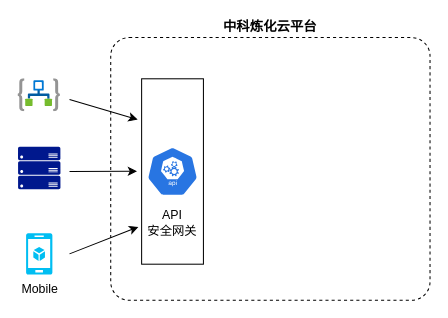
This 448x318 diagram has some shape labels left out. The centre of each missing label's shape, as x and y in pixels:
"APP" belongs at point (39, 94).
"Servers" belongs at point (39, 167).
